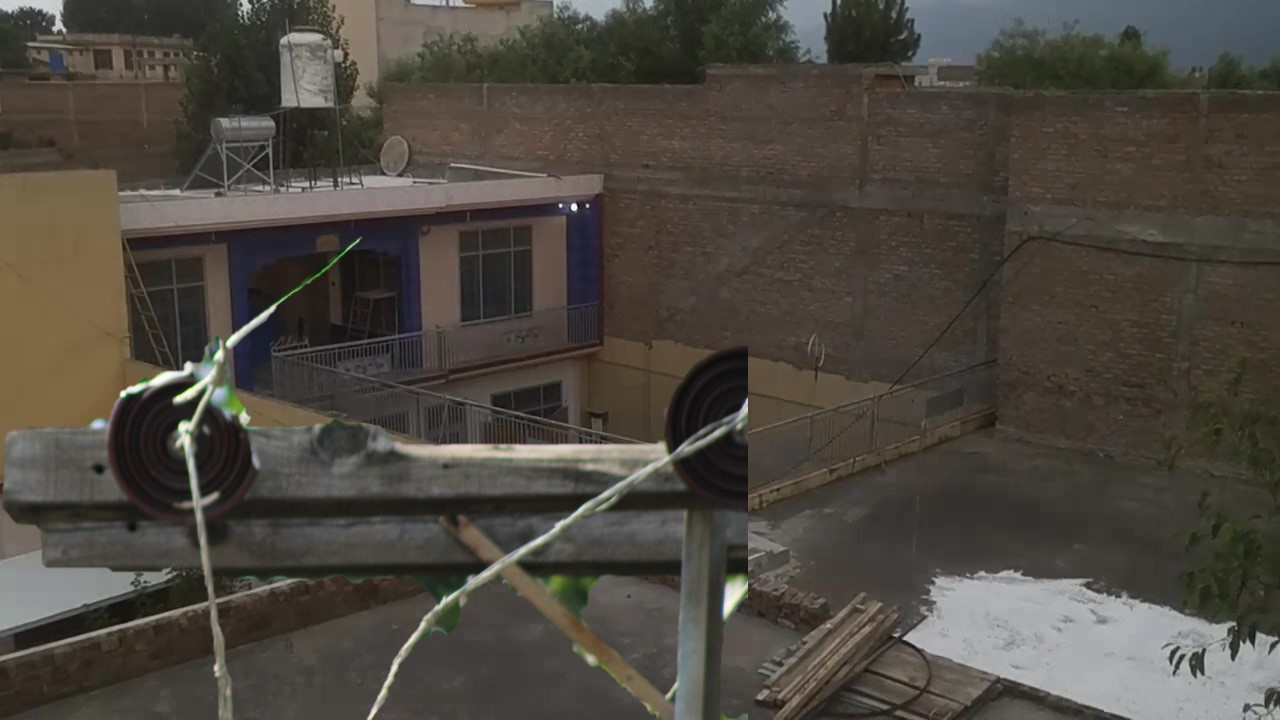defect_disc: (106, 359, 266, 531)
